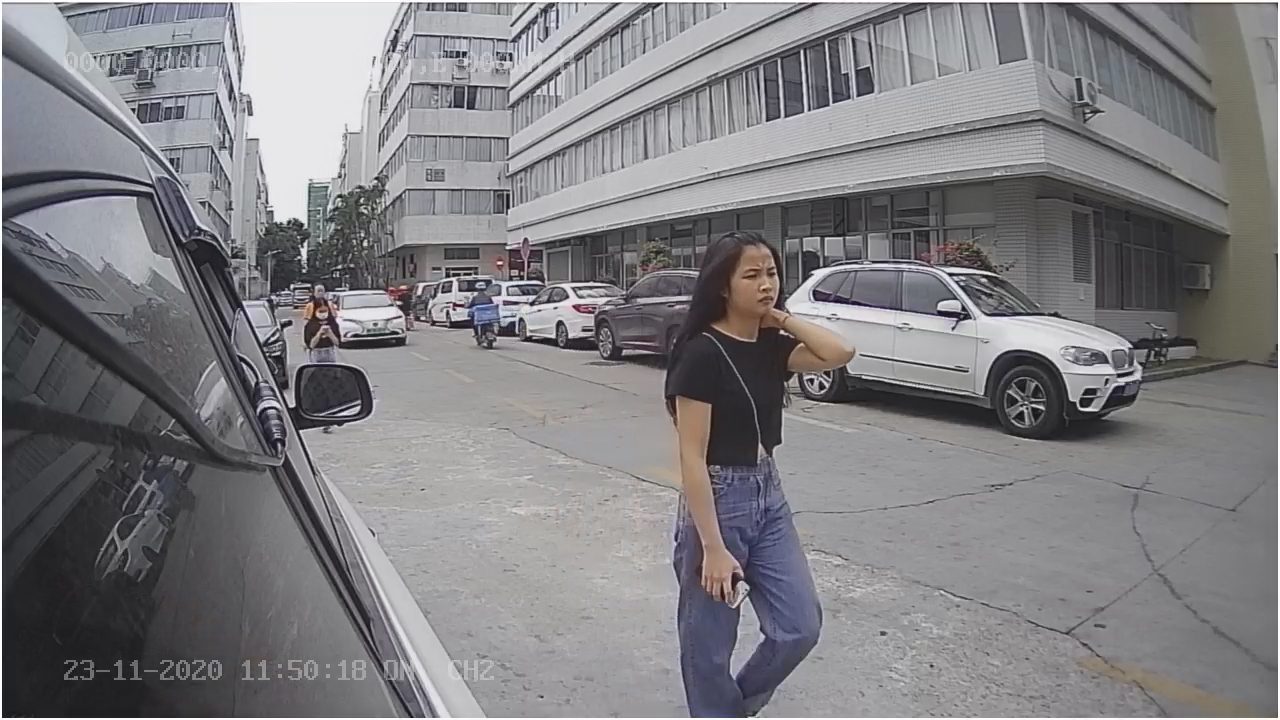person: (660, 217, 853, 601)
